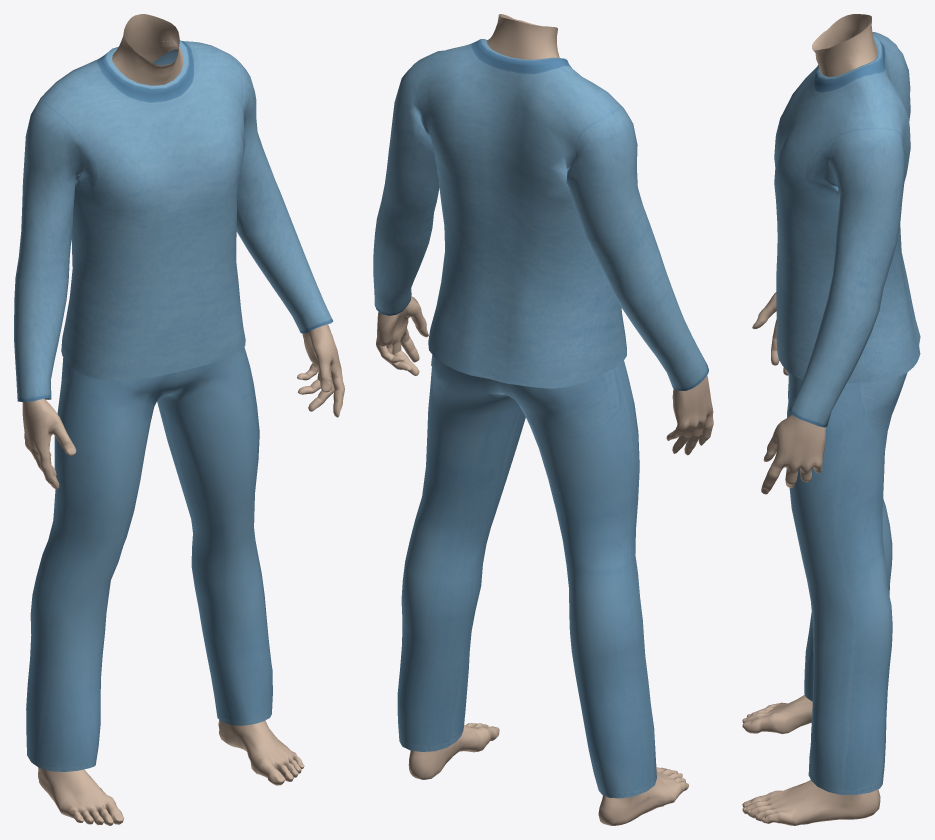
Rendered from avatarMale.fbx.
The picture shows the model from 3 angles, left to right: view 1: azimuth 30°, elevation 25°; view 2: azimuth 150°, elevation 25°; view 3: azimuth 270°, elevation 25°; orthographic projection. The views are drawn at different scales.
Parts seen in each view (by area): view 1: male_casualsuit02Mesh, avatarmaleMesh; view 2: male_casualsuit02Mesh, avatarmaleMesh; view 3: male_casualsuit02Mesh, avatarmaleMesh.
Part boxes in pixels (x1,y1,x2,y2): male_casualsuit02Mesh: (14,40,333,771); avatarmaleMesh: (22,14,344,825); male_casualsuit02Mesh: (373,39,708,798); avatarmaleMesh: (376,14,713,825); male_casualsuit02Mesh: (774,32,920,794); avatarmaleMesh: (742,14,880,825).
Bounding box in the file's own units: 67.98 × 156 × 33.37.
